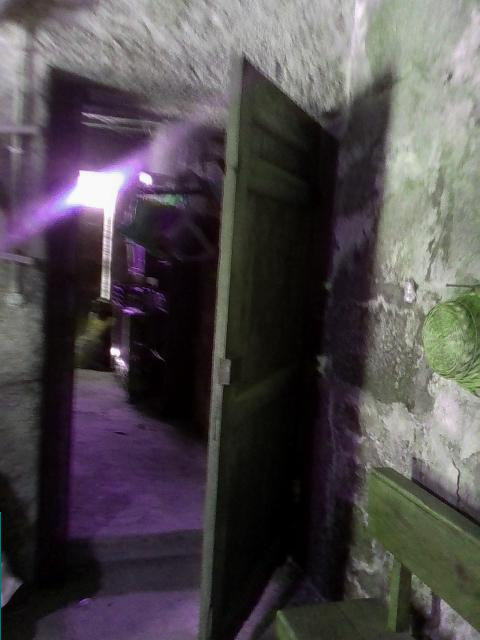semi_door: (38, 47, 338, 639)
